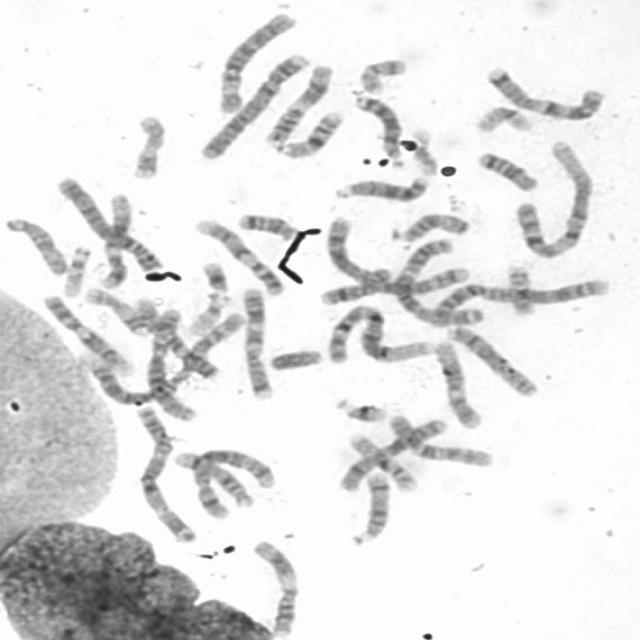A1: (511, 137, 597, 262), (322, 302, 436, 364)
A2: (80, 308, 247, 406), (428, 274, 613, 328)
A3: (131, 403, 199, 545), (390, 234, 484, 328)
B4: (195, 48, 314, 161), (52, 172, 165, 274)
B5: (188, 443, 278, 521), (316, 265, 474, 308)
C10: (130, 296, 224, 382), (385, 412, 496, 468)
C11: (262, 59, 339, 146), (247, 535, 302, 637)
C12: (428, 338, 485, 430), (96, 190, 134, 289)
C6: (213, 9, 299, 114), (139, 302, 200, 422)
C7: (482, 63, 608, 123), (238, 283, 276, 401)
C8: (441, 321, 541, 398), (324, 216, 393, 286)
C9: (37, 290, 135, 378), (190, 212, 285, 297)
D13: (348, 92, 407, 167), (329, 173, 432, 203)
D14: (170, 448, 257, 510), (346, 469, 394, 547)
D15: (1, 214, 72, 277), (385, 209, 473, 244)
E16: (343, 430, 418, 492), (274, 104, 348, 159)
E17: (81, 284, 154, 338), (124, 110, 170, 181)
E18: (473, 146, 542, 194), (232, 210, 298, 241)
F19: (470, 101, 536, 134), (406, 124, 439, 176)
F20: (355, 54, 411, 96), (502, 260, 540, 318)
G21: (329, 392, 390, 424), (196, 257, 232, 294)
G22: (182, 287, 232, 337), (57, 244, 93, 298)
X: (332, 414, 450, 494)
Y: (264, 343, 324, 372)
